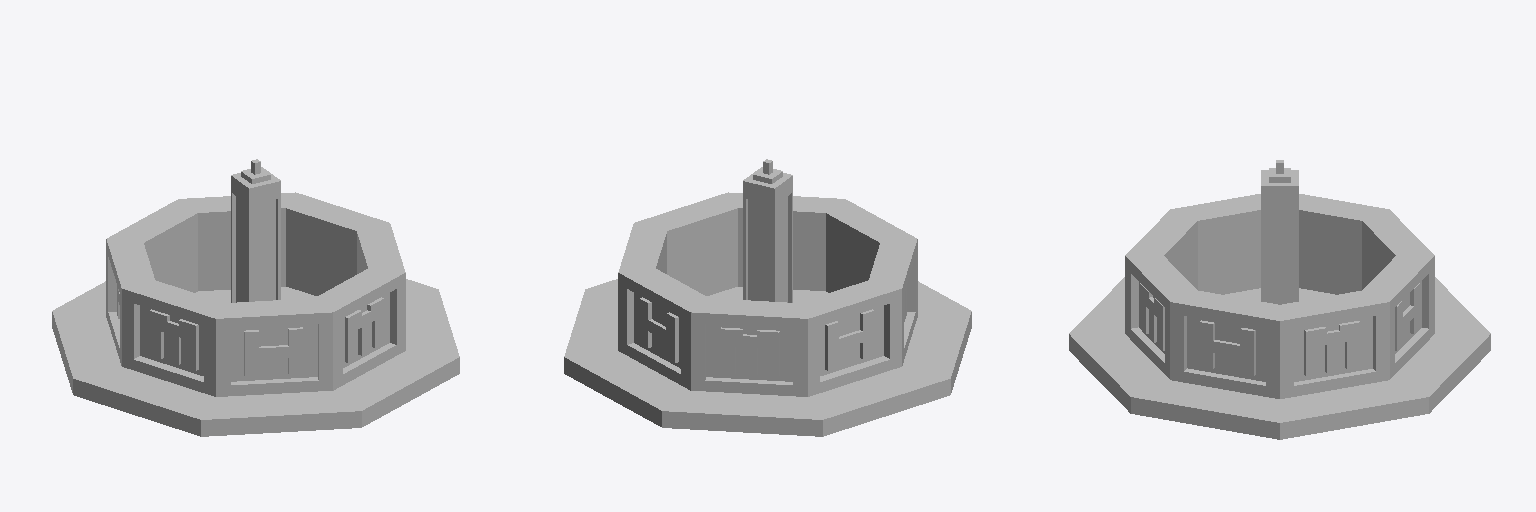
File: brunnen3.obj
3 renders of one model, left to right at view 1: azimuth 30°, elevation 25°; view 2: azimuth 150°, elevation 25°; view 3: azimuth 270°, elevation 25°, orthographic.
Parts seen in each view (by area): view 1: Tube4, Cylinder6, Cube7; view 2: Tube4, Cylinder6, Cube7; view 3: Tube4, Cylinder6, Cube7.
Boxes of the visible parts, <box> form: Tube4: <box>106,192,405,396</box>; Cylinder6: <box>52,279,459,436</box>; Cube7: <box>231,159,280,302</box>; Tube4: <box>618,192,917,396</box>; Cylinder6: <box>564,279,971,436</box>; Cube7: <box>743,159,792,302</box>; Tube4: <box>1125,194,1434,398</box>; Cylinder6: <box>1069,277,1490,439</box>; Cube7: <box>1261,160,1298,304</box>.
Size of the model in its own units: 3.41 by 1.69 by 3.41.